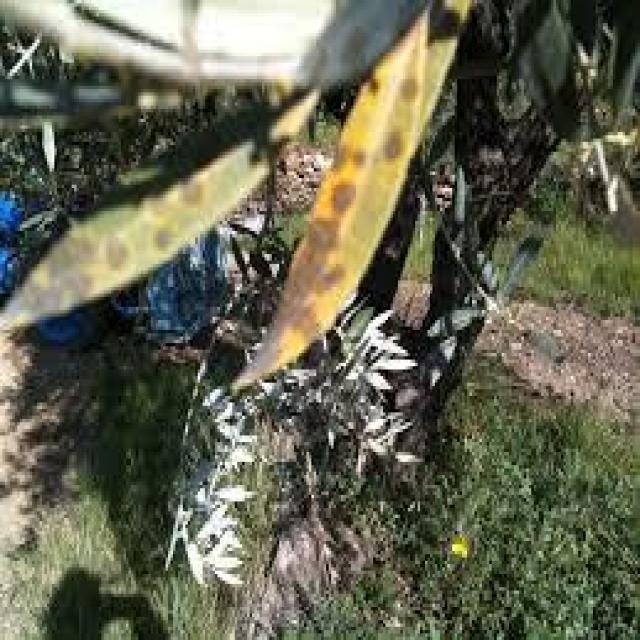OlivePeacockSpot: (245, 53, 422, 373), (0, 142, 267, 326)
